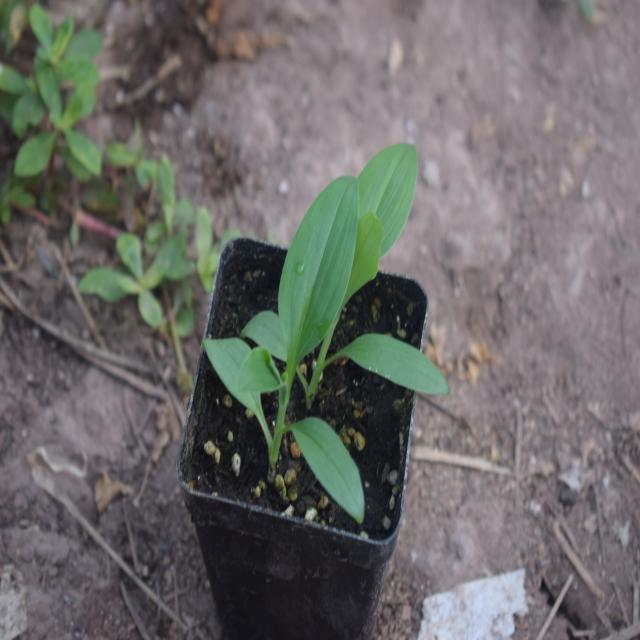Common Dayflower: (228, 132, 444, 501)
